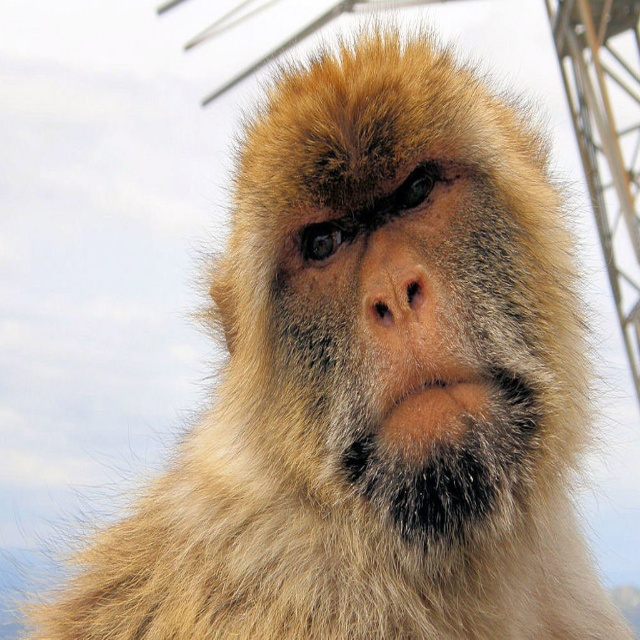Monkey: (0, 3, 639, 639)
